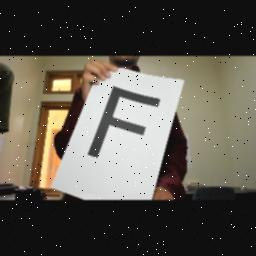f: (86, 85, 162, 171)
